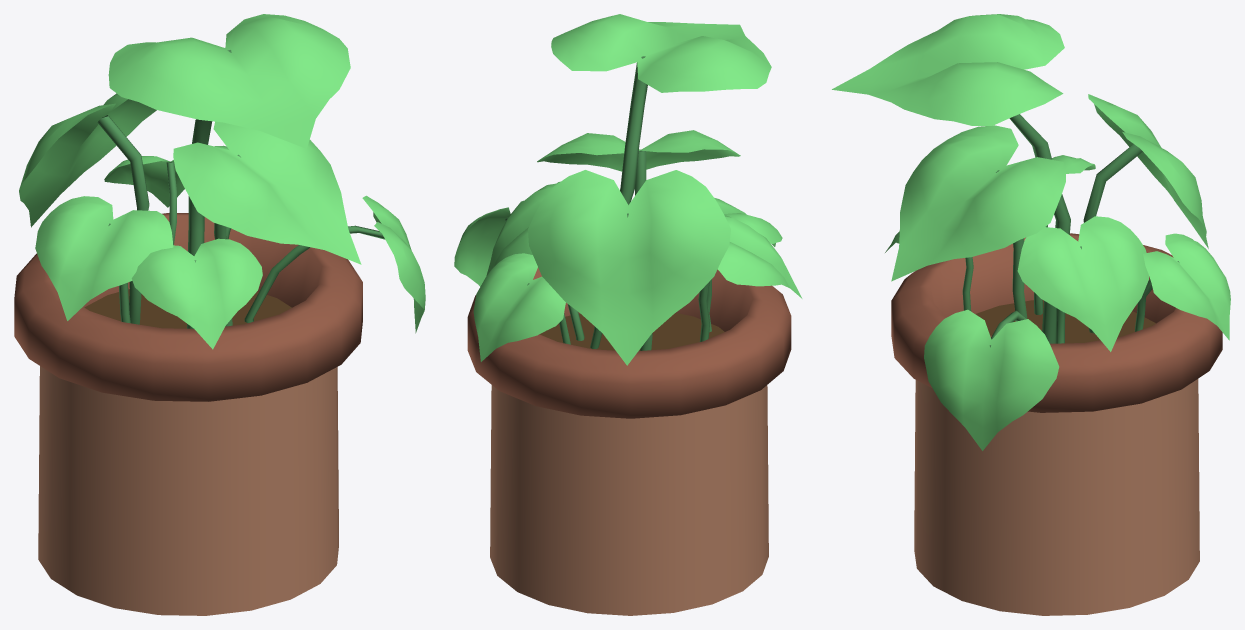
File: Plantas.01.fbx
The picture shows the model from 3 angles, left to right: view 1: azimuth 30°, elevation 25°; view 2: azimuth 150°, elevation 25°; view 3: azimuth 270°, elevation 25°; orthographic projection. The views are drawn at different scales.
Visible parts, largest first — view 1: Planta.006; view 2: Planta.006; view 3: Planta.006.
Part boxes in pixels (<box>): Planta.006: <box>14,14,425,615</box>; Planta.006: <box>454,14,802,615</box>; Planta.006: <box>832,14,1230,615</box>.
Size of the model in its own units: 1.13 by 1.16 by 1.64.
